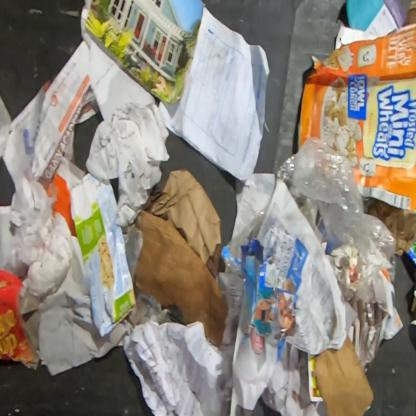cardboard: (296, 22, 416, 211), (136, 209, 228, 348), (221, 239, 297, 341), (314, 333, 375, 416), (0, 266, 39, 364)
metal: (407, 239, 415, 266)
rigid_plastic: (276, 152, 319, 233), (226, 202, 270, 260)
soft_plastic: (293, 136, 396, 287)
